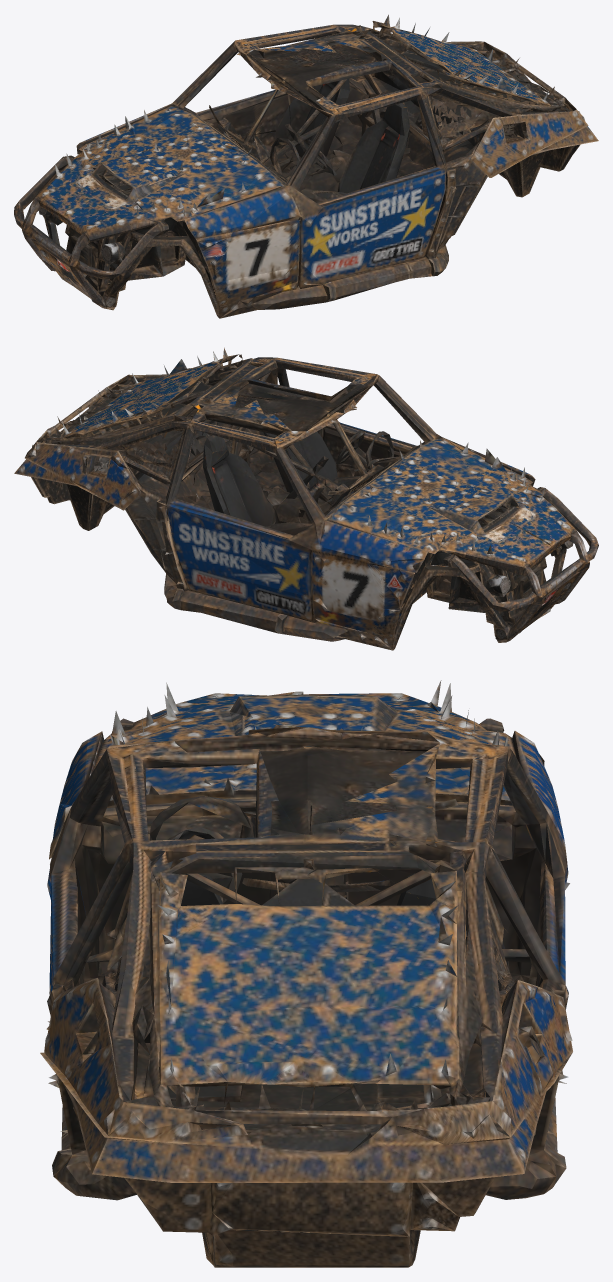
File: hopper-sunstrike-stream.glb
3 renders of one model, top to bottom at view 1: azimuth 30°, elevation 25°; view 2: azimuth 150°, elevation 25°; view 3: azimuth 270°, elevation 25°, orthographic. The views are drawn at different scales.
Visible parts, largest first — view 1: output_unwrapped; view 2: output_unwrapped; view 3: output_unwrapped.
Boxes of the visible parts, left/top/right/bottom form: output_unwrapped: left=14, top=14, right=598, bottom=318; output_unwrapped: left=14, top=347, right=598, bottom=650; output_unwrapped: left=40, top=680, right=572, bottom=1267.
Size of the model in its own units: 1.9 by 0.6509 by 0.8676.
Materials: 1 (1 with a texture image).
